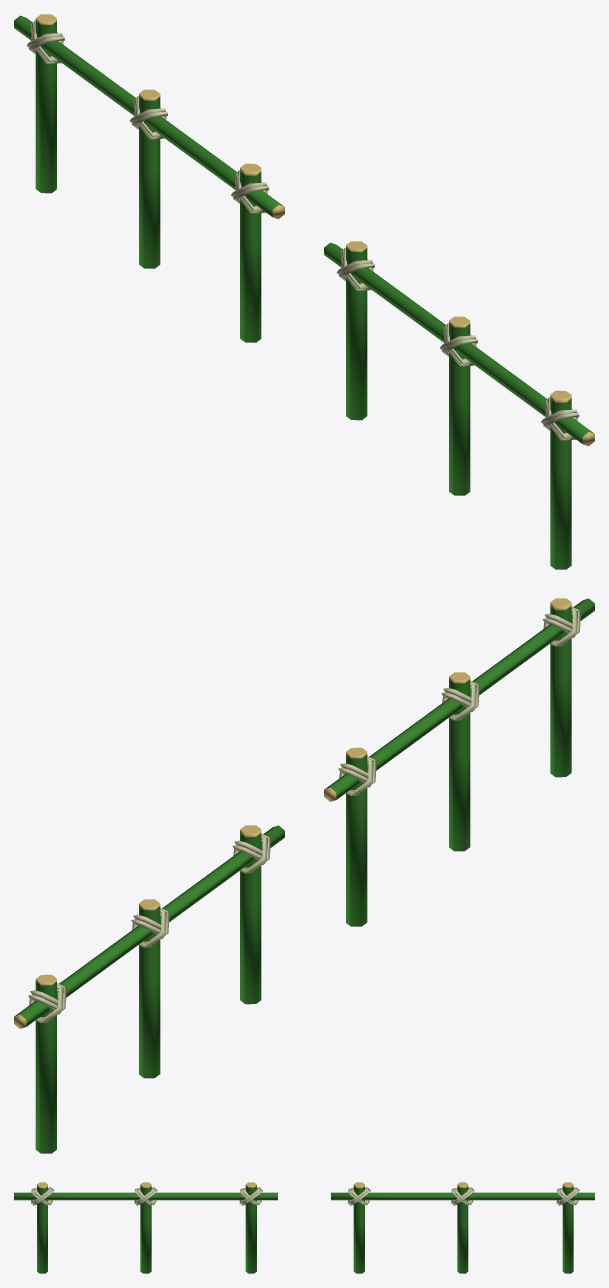
The model's file is PembatasJalanArray2.fbx.
The picture shows the model from 3 angles, top to bottom: view 1: azimuth 30°, elevation 25°; view 2: azimuth 150°, elevation 25°; view 3: azimuth 270°, elevation 25°; orthographic projection. The views are drawn at different scales.
Visible parts, largest first — view 1: PembatasJalan.004; view 2: PembatasJalan.004; view 3: PembatasJalan.004.
Part boxes in pixels (x1,y1,x2,y2): PembatasJalan.004: (14, 14, 594, 569); PembatasJalan.004: (14, 598, 594, 1153); PembatasJalan.004: (14, 1182, 594, 1273).
Size of the model in its own units: 77.49 by 2202 by 365.
